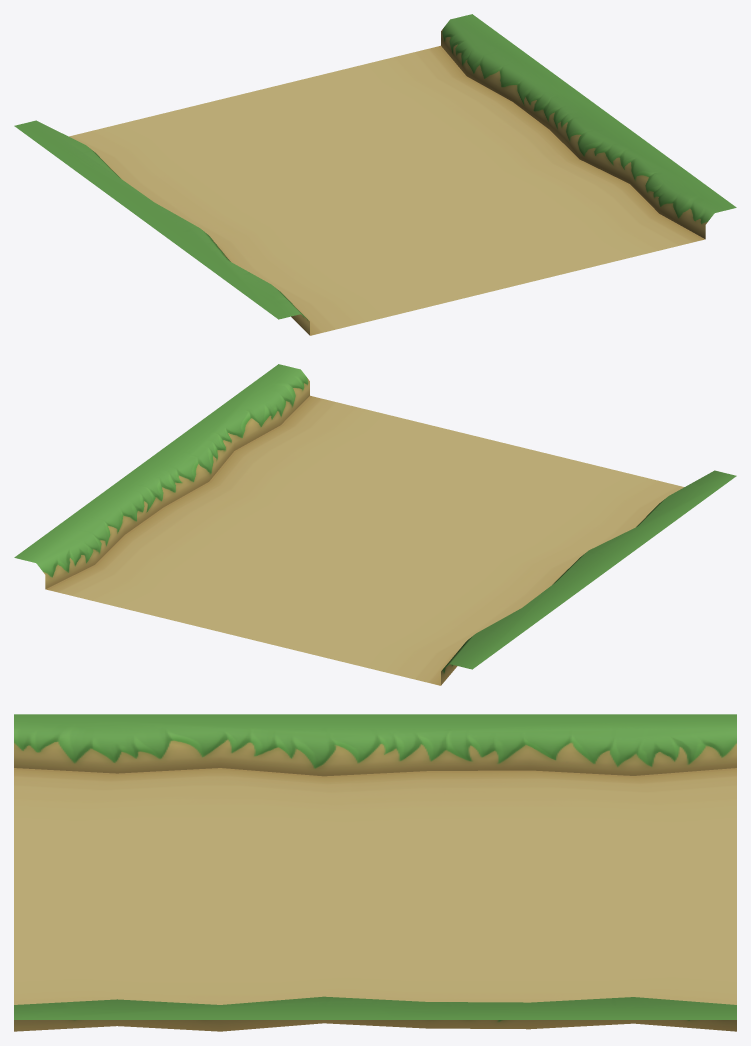
File: Tile05.FBX
The picture shows the model from 3 angles, top to bottom: view 1: azimuth 30°, elevation 25°; view 2: azimuth 150°, elevation 25°; view 3: azimuth 270°, elevation 25°; orthographic projection. The views are drawn at different scales.
Parts seen in each view (by area): view 1: Tile05; view 2: Tile05; view 3: Tile05.
Boxes of the visible parts, x1,y1,x2,y2 form: Tile05: (14,14,736,335); Tile05: (14,364,736,685); Tile05: (14,714,736,1031).
Bounding box in the file's own units: 500 × 25 × 500.
